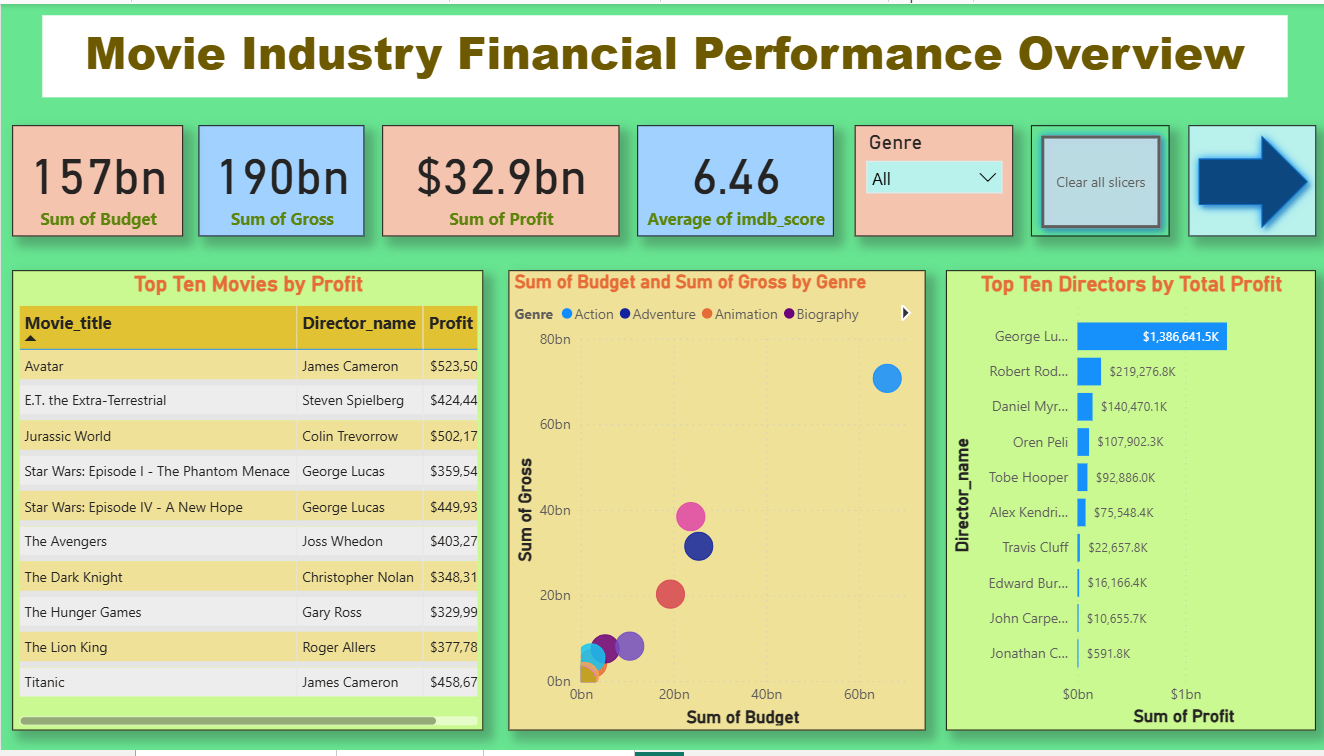

Layout of this report page (visuals, bound fields, positions):
{"tool":"powerbi","page":{"name":"Financial Performance","canvas":[1280,720],"ordinal":0},"visuals":[{"type":"card","fields":{"Values":["Sum(Movie_metadata.Gross)"]},"box":[190.7,117.4,160.1,107.6],"z":0},{"type":"card","fields":{"Values":["Sum(Movie_metadata.Budget)"]},"box":[11,117.4,165,107.6],"z":1000},{"type":"card","fields":{"Values":["Sum(Movie_metadata.Profit)"]},"box":[367.9,117.4,228.6,107.6],"z":2000},{"type":"card","fields":{"Values":["Avg(Movie_metadata.imdb_score)"]},"box":[613.7,117.4,189.5,107.6],"z":3000},{"type":"tableEx","title":"Top Ten Movies by Profit","fields":{"Values":["Movie_metadata.Movie_title","Movie_metadata.Director_name","Movie_metadata.Profit"]},"box":[11,256.7,454.7,443.7],"z":4000},{"type":"slicer","fields":{"Values":["Movie_metadata.Genre"]},"box":[823.9,117.4,152.8,107.6],"z":5000},{"type":"clusteredBarChart","title":"Top Ten Directors by Total Profit","fields":{"Category":["Movie_metadata.Director_name"],"Y":["Sum(Movie_metadata.Profit)"]},"box":[911.9,256.7,356.9,443.7],"z":6000},{"type":"scatterChart","fields":{"X":["Sum(Movie_metadata.Budget)"],"Y":["Sum(Movie_metadata.Gross)"],"Series":["Movie_metadata.Genre"]},"box":[490.2,256.7,402.2,443.7],"z":7000},{"type":"shape","box":[1145.4,117.4,123.5,107.6],"z":8000},{"type":"textbox","box":[40.3,11,1201.6,79.5],"z":9000},{"type":"actionButton","box":[993.8,117.4,133.2,107.6],"z":10000}]}

Visuals, with their boxes in screenshot pixels (x1, y1, x2, y2), scaled from the page's 1280x720 canvas onto the 1324x756 screenshot:
card - Sum(Movie_metadata.Gross): (197, 123, 363, 236)
card - Sum(Movie_metadata.Budget): (11, 123, 182, 236)
card - Sum(Movie_metadata.Profit): (381, 123, 617, 236)
card - Avg(Movie_metadata.imdb_score): (635, 123, 831, 236)
"Top Ten Movies by Profit" tableEx: (11, 270, 482, 735)
slicer - Movie_metadata.Genre: (852, 123, 1010, 236)
"Top Ten Directors by Total Profit" clusteredBarChart: (943, 270, 1312, 735)
scatterChart - Sum(Movie_metadata.Budget) x Sum(Movie_metadata.Gross): (507, 270, 923, 735)
shape: (1185, 123, 1313, 236)
textbox: (42, 12, 1285, 95)
actionButton: (1028, 123, 1166, 236)
